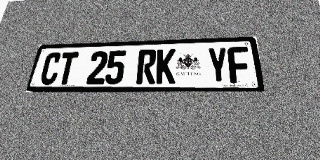2: (86, 51, 109, 84)
5: (104, 50, 126, 84)
C: (39, 52, 63, 85)
F: (227, 46, 252, 83)
K: (156, 49, 176, 84)
R: (136, 49, 157, 84)
T: (56, 52, 79, 85)
Y: (207, 47, 229, 83)
